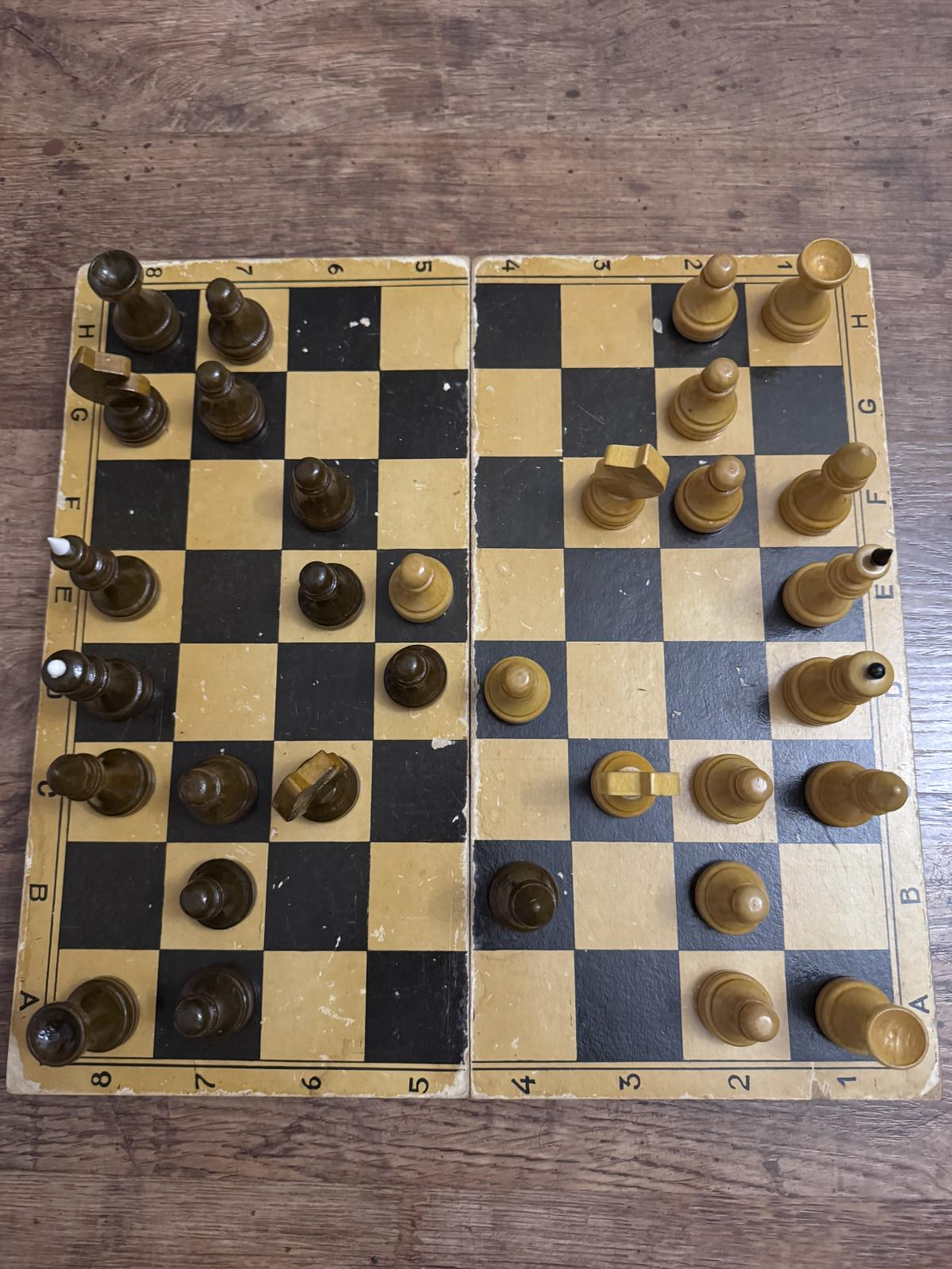Chess-Board: (51, 282, 898, 1061)
